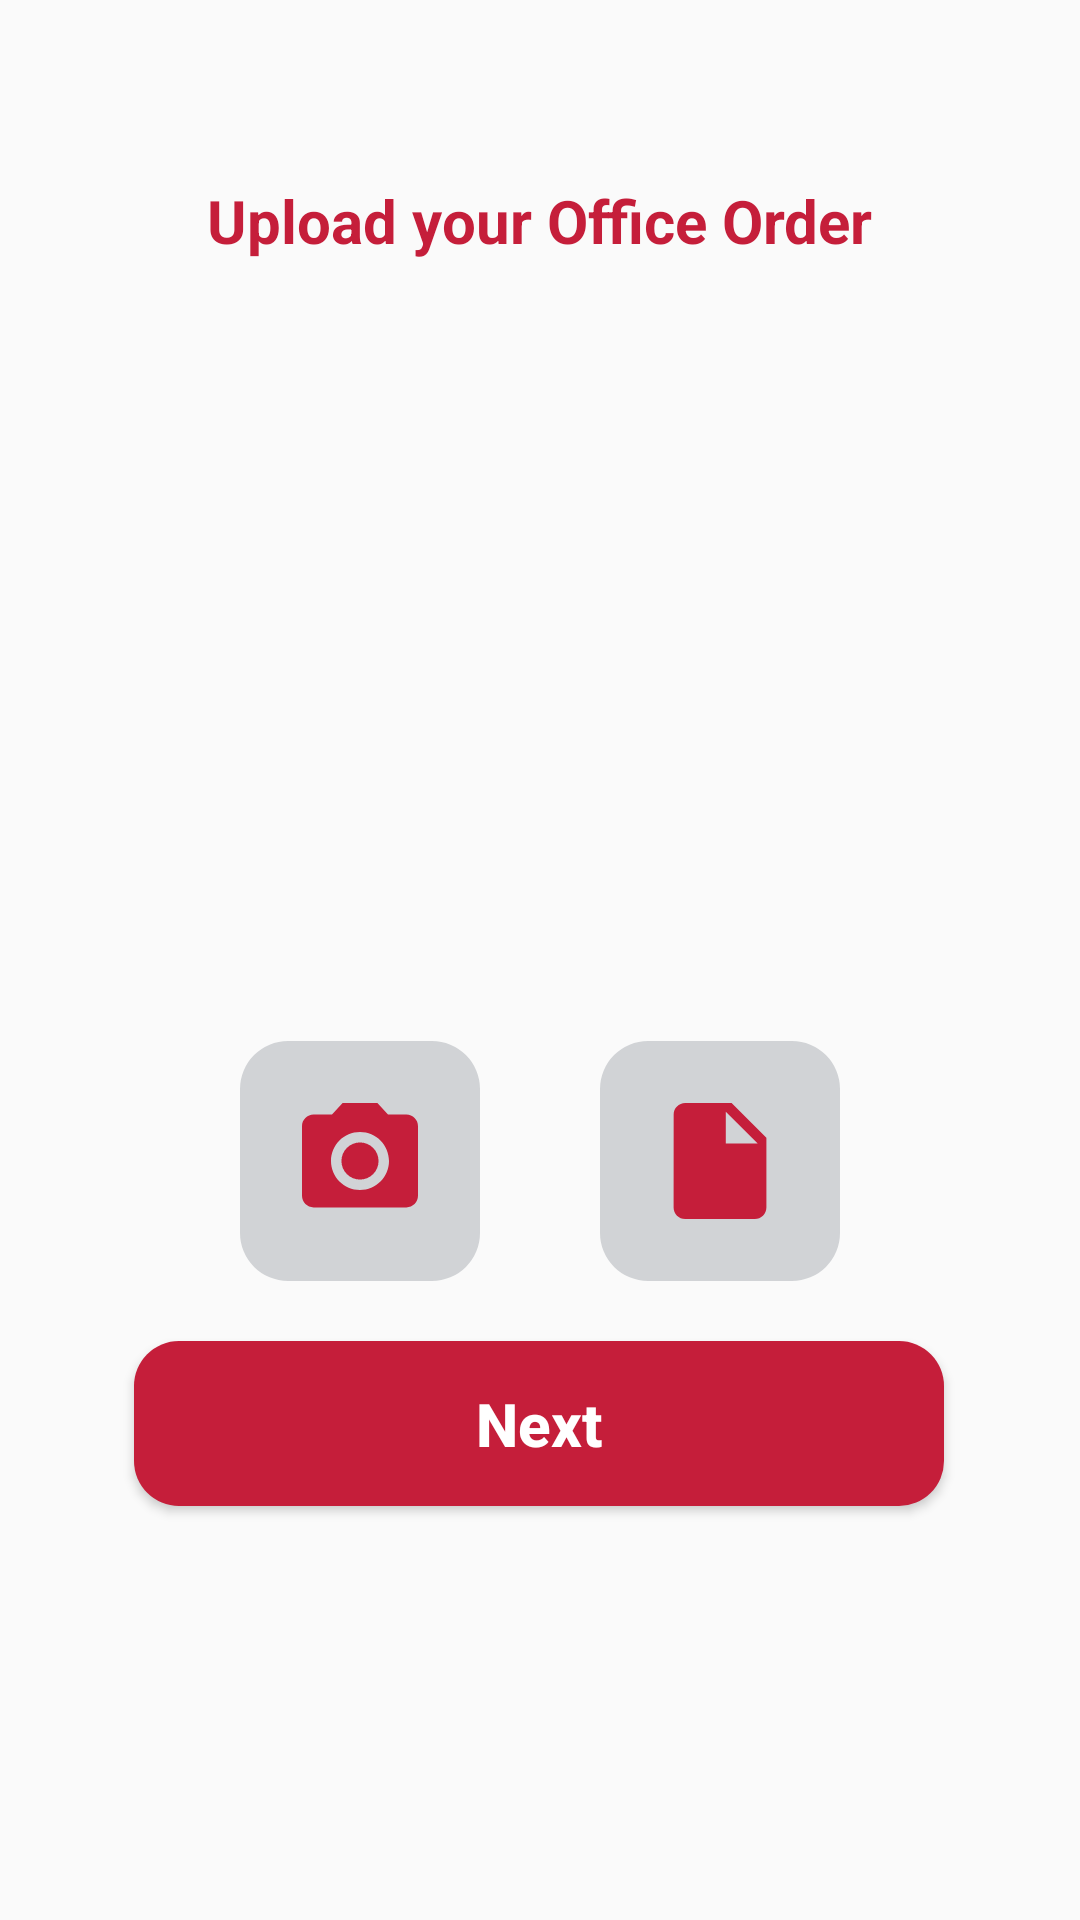

Icons on this 1080w x 1920h Android screen, each with the point to tap as point (x, y):
cam: point (360, 1161)
file: point (720, 1161)
